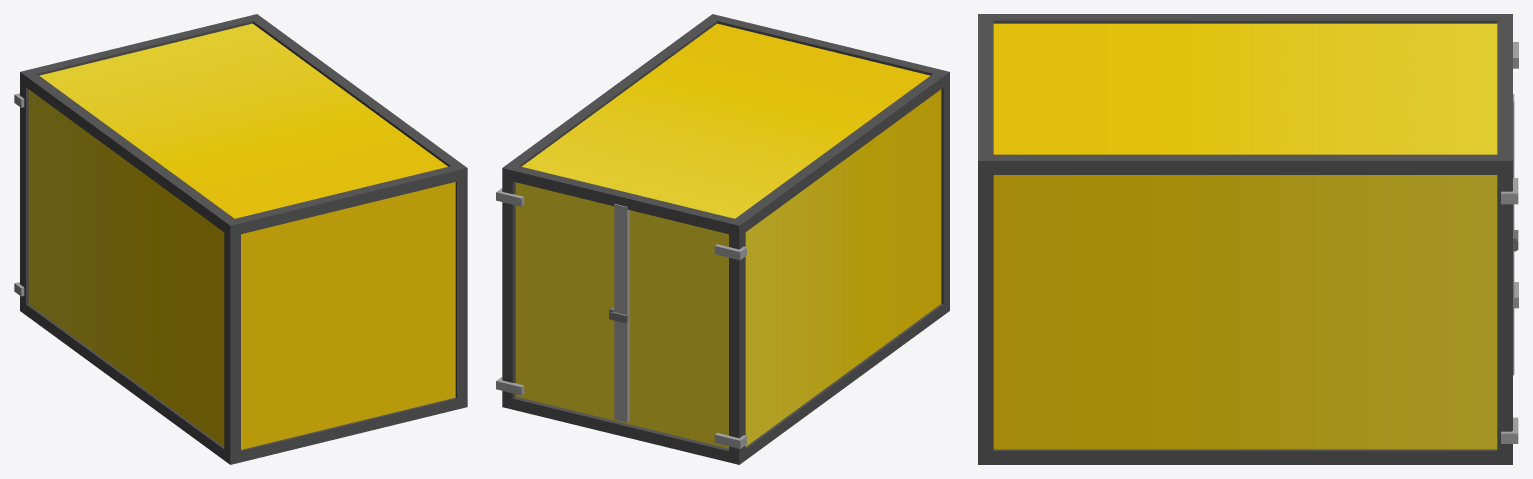
The model's file is Trailer_1_lvl1.fbx.
3 views of the same model, side by side, from view 1: azimuth 30°, elevation 25°; view 2: azimuth 150°, elevation 25°; view 3: azimuth 270°, elevation 25° (orthographic). The views are drawn at different scales.
Visible parts, largest first — view 1: Box051; view 2: Box051; view 3: Box051.
Boxes of the visible parts, box(x1,y1,x2,y2) form: Box051: box(14, 14, 467, 464); Box051: box(496, 14, 949, 464); Box051: box(978, 14, 1518, 464).
Bounding box in the file's own units: 3865 × 3614 × 5829.
